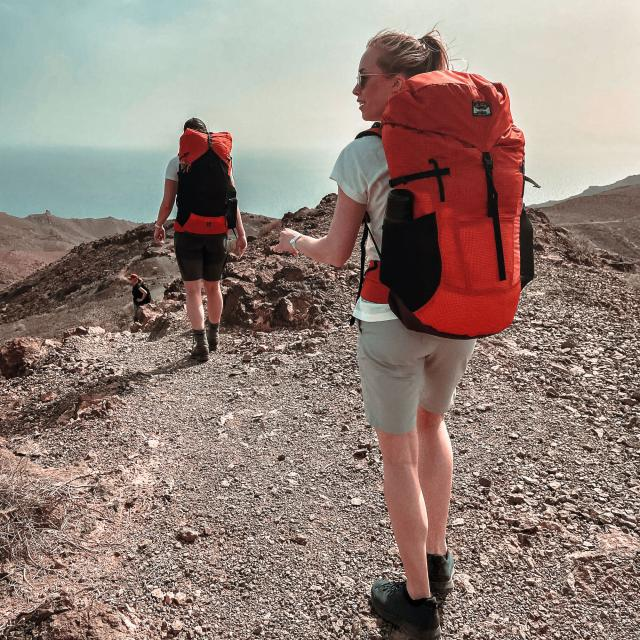backpack: (354, 70, 535, 339), (175, 131, 237, 235)
